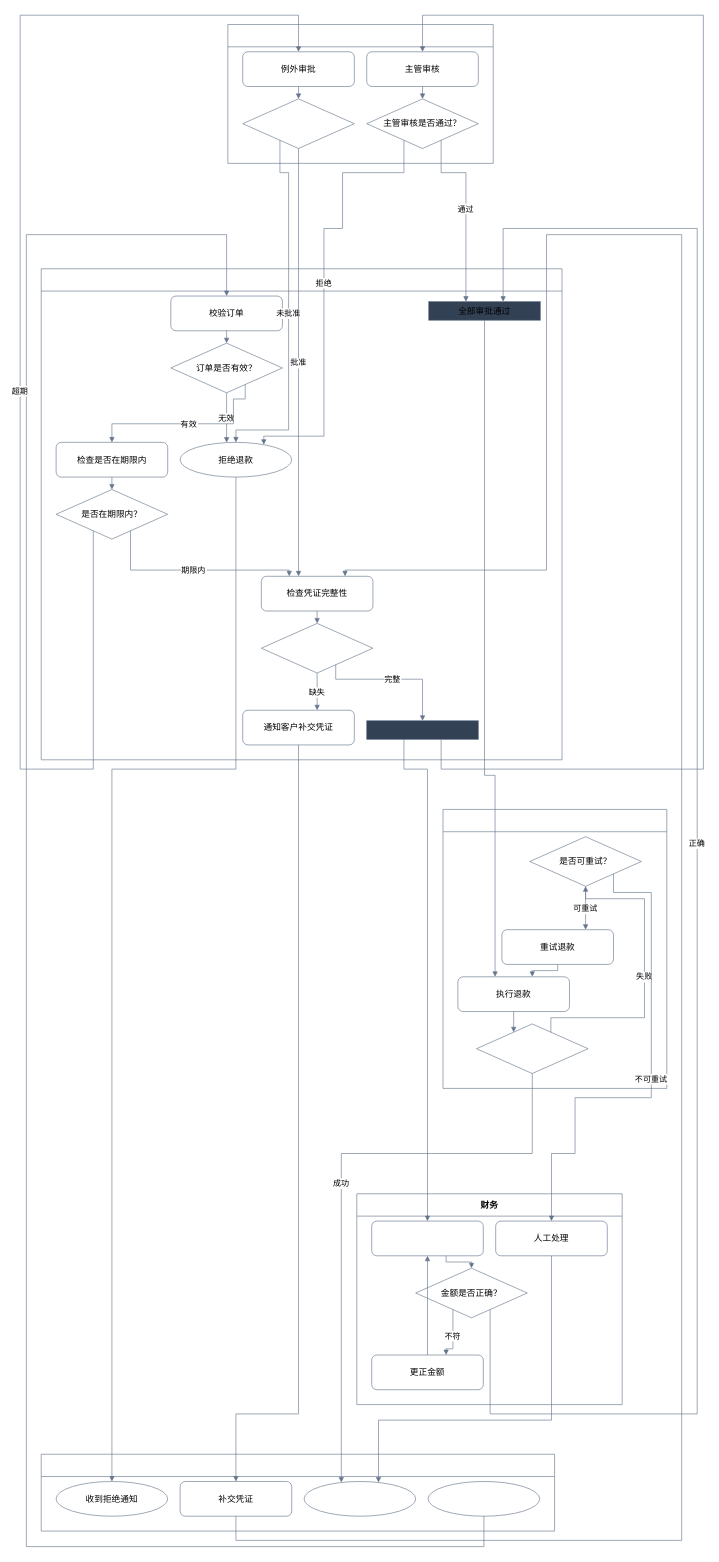
The diagram is 719 pixels wide and 1562 high, and some of its shapes have lost their labels. Here are the shapes that lost their labels. From the top down, the box of each, then its label:
(227, 24, 493, 163): 主管
(242, 98, 354, 148): 主管是否批准？
(41, 268, 562, 760): 客服
(261, 623, 373, 673): 凭证是否完整？
(442, 809, 667, 1088): 支付
(476, 1023, 588, 1074): 退款是否成功？
(371, 1220, 483, 1256): 财务核算
(41, 1454, 555, 1531): 客户
(303, 1481, 416, 1516): 通知客户并归档
(427, 1481, 540, 1516): 申请退款
